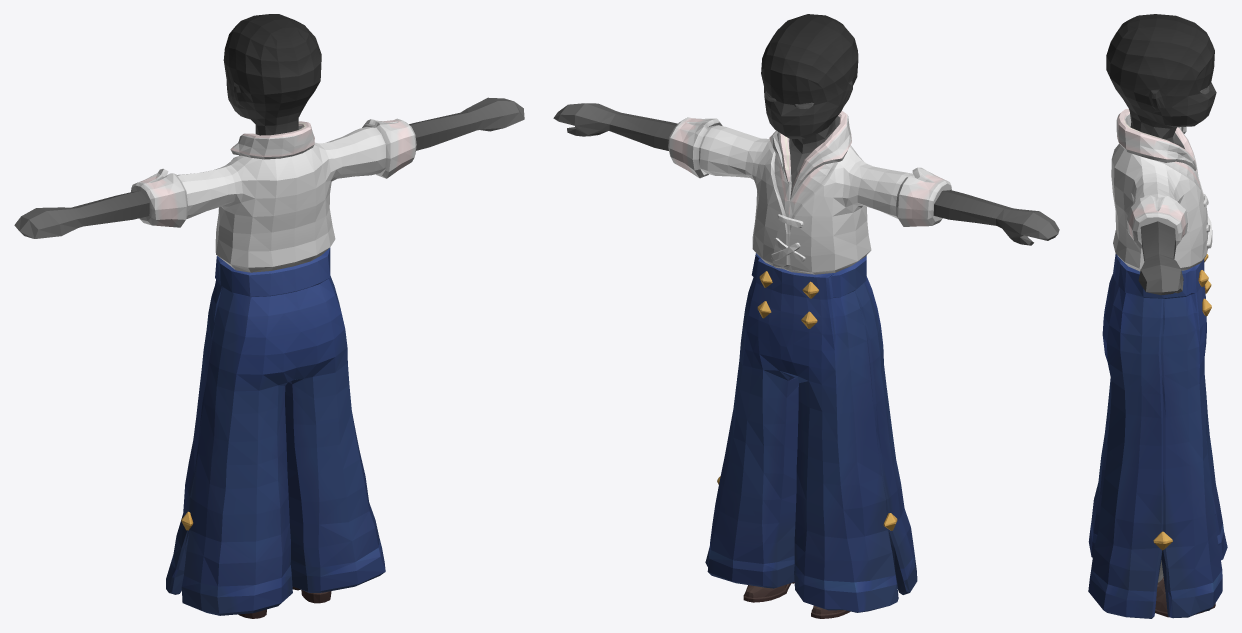
File: CharSkyKid_Body_AP32Sailor.glb
The picture shows the model from 3 angles, left to right: view 1: azimuth 30°, elevation 25°; view 2: azimuth 150°, elevation 25°; view 3: azimuth 270°, elevation 25°; orthographic projection.
Visible parts, largest first — view 1: CharSkyKid_Body_AP32Sailor; view 2: CharSkyKid_Body_AP32Sailor; view 3: CharSkyKid_Body_AP32Sailor.
Boxes of the visible parts, x1,y1,x2,y2 form: CharSkyKid_Body_AP32Sailor: (14, 14, 524, 618); CharSkyKid_Body_AP32Sailor: (553, 14, 1059, 618); CharSkyKid_Body_AP32Sailor: (1088, 14, 1227, 618).
Bounding box in the file's own units: 13.82 × 15.11 × 3.32.
1 material, 1 textured.
